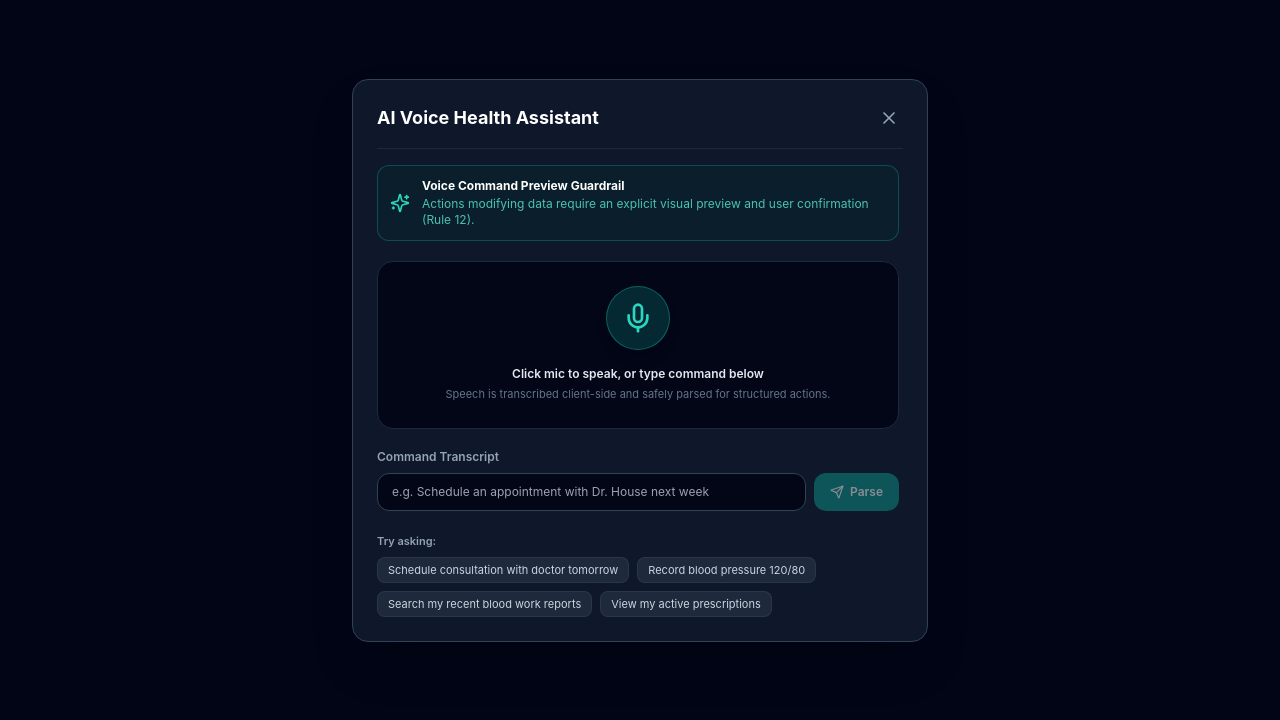
Test case: Checkpoint 15: Features 21–26 & Voice Assistant Frontend Tests › VoiceAssistantModal: displays preview guardrail and requires explicit confirmation for actions modifying data
This screenshot has width=1280, height=720.
Check: the heading "AI Voice Health Assistant" is shown, box [377, 104, 599, 132]
Check: the text "Voice Command Preview Guardrail" is shown, box [422, 178, 624, 192]
Type "Schedule appointment with Dr McCoy" into the field with placeholder "e.g. Schedule an appointment with Dr. House next week". click: (592, 492)
box: [377, 472, 806, 510]
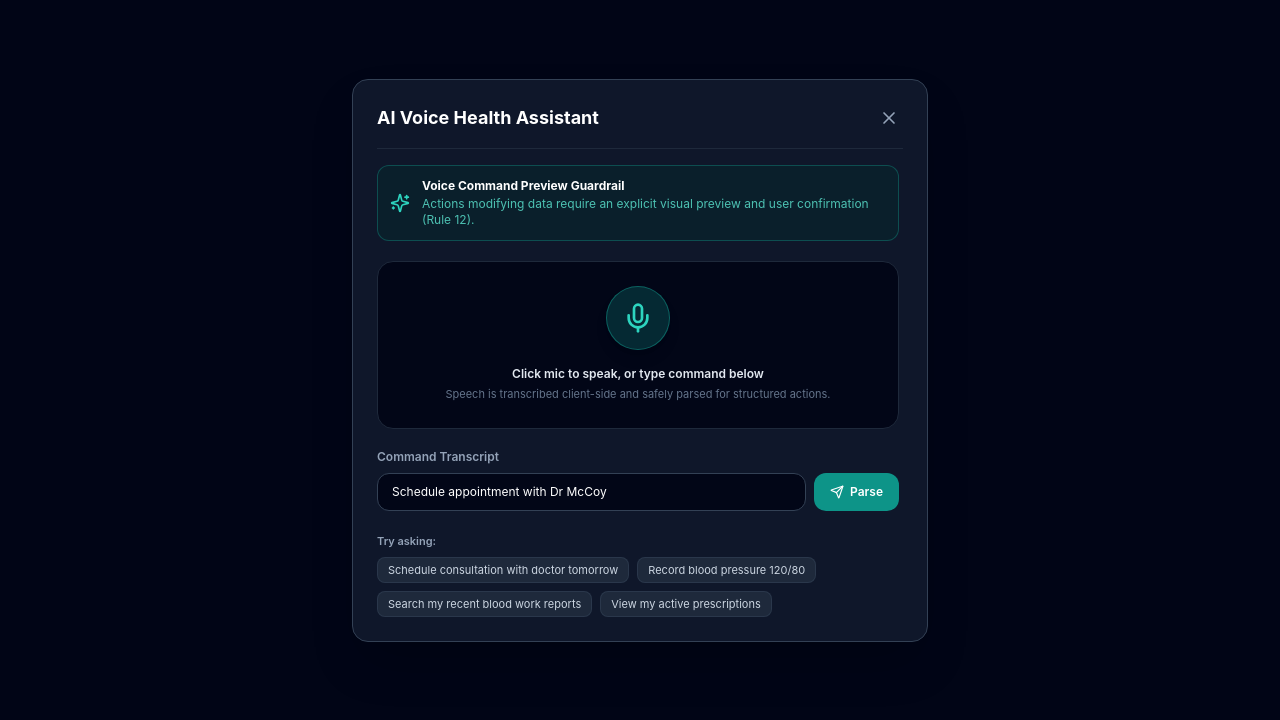
Click the button "Parse". click: (856, 492)
box: [814, 472, 899, 510]
(page scrolled)
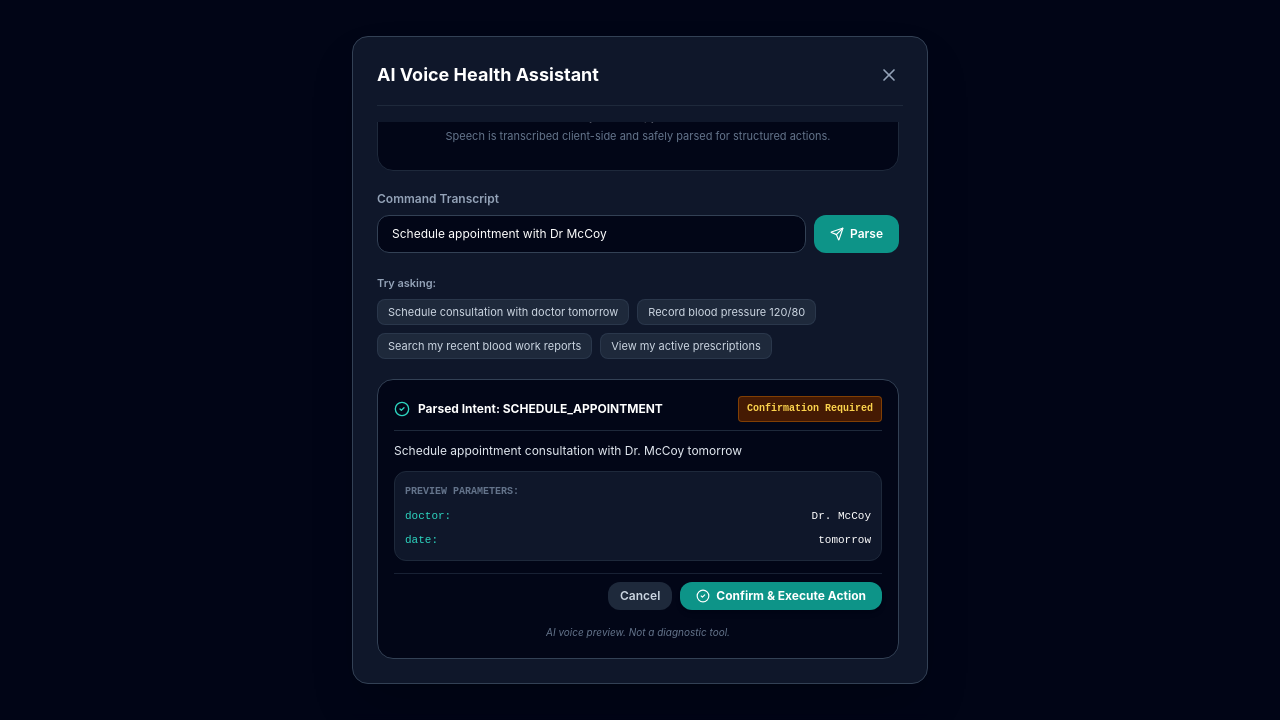
Check: the text "Confirmation Required" is shown, box [738, 396, 882, 422]
Check: the button "Confirm & Execute Action" is shown, box [680, 582, 882, 610]
